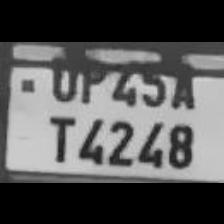2: (103, 111, 133, 165)
4: (104, 54, 138, 104), (74, 112, 106, 164), (134, 113, 164, 167)
5: (135, 52, 167, 106)
8: (163, 116, 195, 169)
A: (168, 53, 198, 109)
P: (74, 52, 106, 104)
T: (41, 108, 75, 162)
U: (45, 52, 79, 102)
